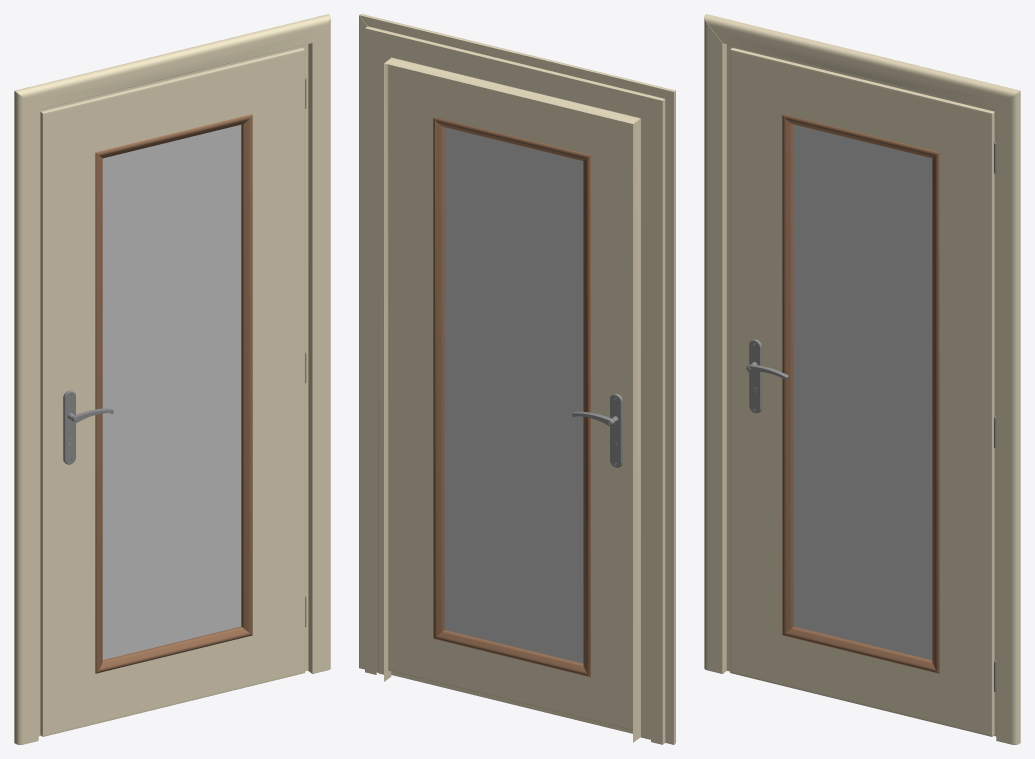
File: door1.FBX
3 renders of one model, left to right at view 1: azimuth 30°, elevation 25°; view 2: azimuth 150°, elevation 25°; view 3: azimuth 330°, elevation 25°, orthographic.
Visible parts, largest first — view 1: door001, ru4ka; view 2: door001, ru4ka_003; view 3: door001, ru4ka.
Part boxes in pixels (left/top/right/bottom): door001: left=14, top=14, right=330, bottom=744; ru4ka: left=63, top=390, right=113, bottom=464; door001: left=359, top=14, right=675, bottom=744; ru4ka_003: left=607, top=393, right=622, bottom=467; door001: left=704, top=14, right=1020, bottom=744; ru4ka: left=746, top=339, right=788, bottom=413.
Size of the model in its own units: 42.52 by 84.25 by 5.21.
